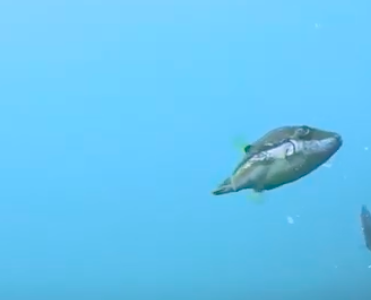hugu: (205, 119, 344, 205)
